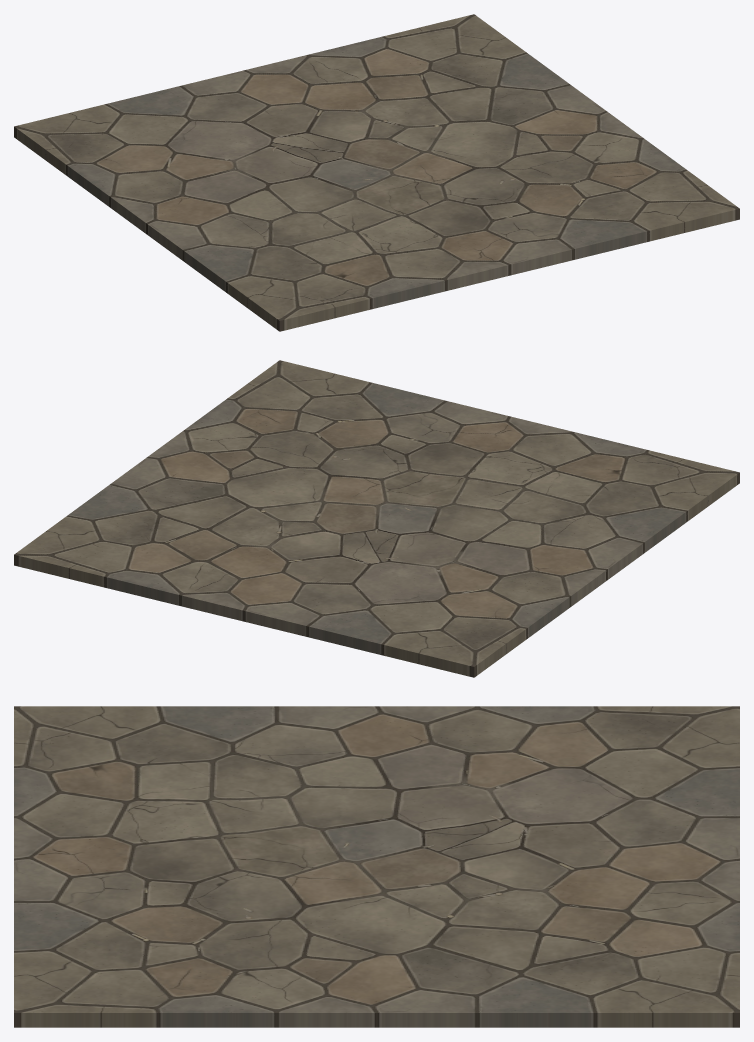
The model's file is catacomb_floor_a.glb.
3 views of the same model, one above another, from view 1: azimuth 30°, elevation 25°; view 2: azimuth 150°, elevation 25°; view 3: azimuth 270°, elevation 25° (orthographic). The views are drawn at different scales.
Parts seen in each view (by area): view 1: catacomb_floor_a; view 2: catacomb_floor_a; view 3: catacomb_floor_a.
Boxes of the visible parts, bbox=[...] form: catacomb_floor_a: bbox=[14, 14, 739, 331]; catacomb_floor_a: bbox=[14, 360, 739, 677]; catacomb_floor_a: bbox=[14, 706, 739, 1027].
Bounding box in the file's own units: 4 × 0.1111 × 4.
1 material, 1 textured.
